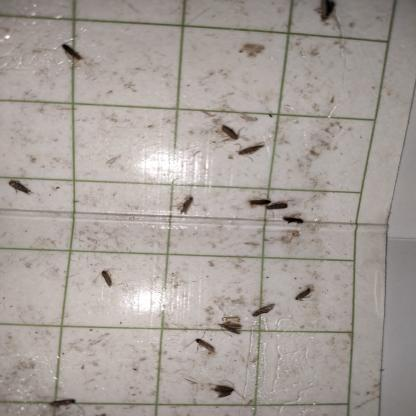prays_oleae: (250, 286, 281, 334), (4, 167, 33, 214), (234, 134, 270, 164), (189, 328, 219, 364), (60, 37, 86, 76), (96, 258, 118, 298), (243, 184, 270, 216), (219, 311, 242, 346), (173, 188, 198, 219), (280, 206, 308, 230), (293, 275, 313, 308), (222, 116, 240, 149), (47, 393, 78, 412), (206, 383, 242, 399), (264, 193, 290, 215)
